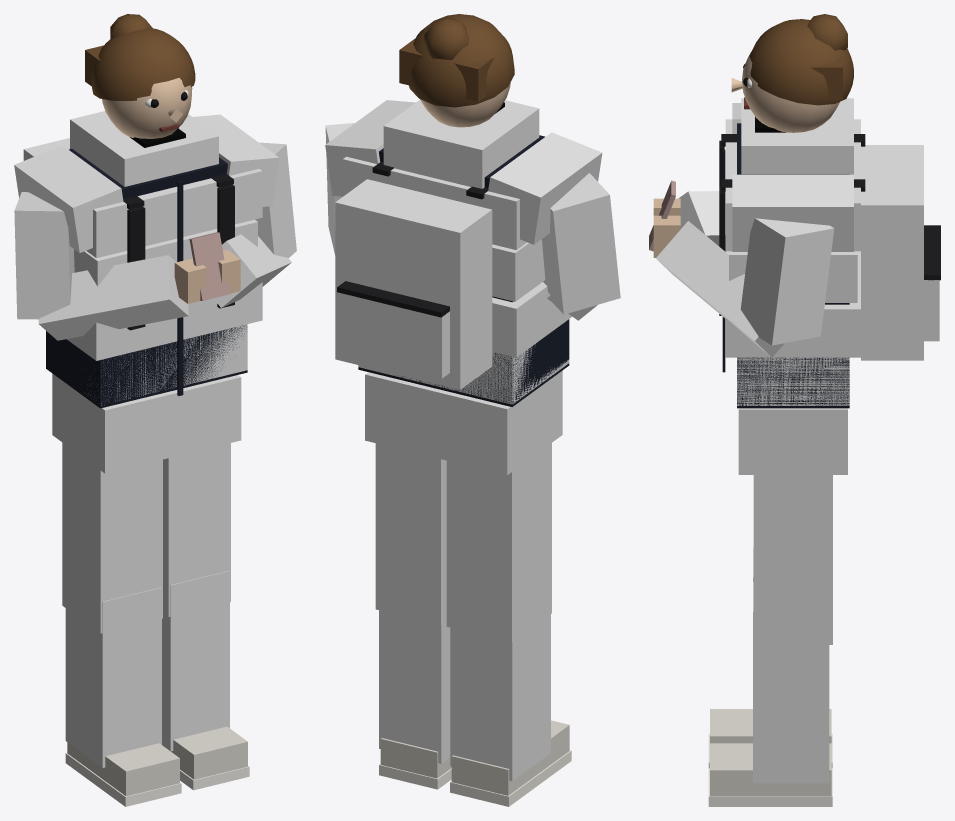
The model's file is NPC_texter.fbx.
3 renders of one model, left to right at view 1: azimuth 30°, elevation 25°; view 2: azimuth 150°, elevation 25°; view 3: azimuth 270°, elevation 25°, orthographic. The views are drawn at different scales.
Visible parts, largest first — view 1: Body_Cloth_9aa6b4, Body_Cloth_283148, Body_Mat_151a27, Head_Hair.016, Body_Mat_dfdcd3, Head_Skin.016, Body_Mat_18171a, Body_Mat_f1efe8.002, Body_Skin.016, Prop_Phone_PhoneBodyRose; view 2: Body_Cloth_9aa6b4, Body_Cloth_283148, Body_Cloth_3a3633, Head_Hair.016, Body_Mat_dfdcd3, Body_Mat_151a27, Body_Mat_f1efe8.002, Body_Mat_18171a, Head_Skin.016; view 3: Body_Cloth_283148, Body_Cloth_9aa6b4, Body_Cloth_3a3633, Head_Hair.016, Body_Mat_151a27, Body_Mat_dfdcd3, Head_Skin.016, Body_Mat_18171a, Body_Mat_f1efe8.002, Body_Skin.016.
Boxes of the visible parts, x1,y1,x2,y2 form: Body_Cloth_9aa6b4: (52, 373, 241, 767); Body_Cloth_283148: (14, 111, 296, 405); Body_Mat_151a27: (46, 149, 247, 408); Head_Hair.016: (85, 14, 195, 100); Body_Mat_dfdcd3: (67, 726, 247, 796); Head_Skin.016: (102, 77, 192, 138); Body_Mat_18171a: (123, 174, 234, 330); Body_Mat_f1efe8.002: (65, 753, 249, 806); Body_Skin.016: (174, 250, 240, 303); Prop_Phone_PhoneBodyRose: (189, 232, 230, 300); Body_Cloth_9aa6b4: (365, 370, 562, 780); Body_Cloth_283148: (325, 99, 620, 404); Body_Cloth_3a3633: (335, 179, 492, 389); Head_Hair.016: (399, 14, 514, 107); Body_Mat_dfdcd3: (380, 720, 569, 795); Body_Mat_151a27: (358, 135, 569, 406); Body_Mat_f1efe8.002: (379, 750, 571, 806); Body_Mat_18171a: (337, 162, 488, 317); Head_Skin.016: (421, 82, 510, 127); Body_Cloth_283148: (656, 98, 860, 405); Body_Cloth_9aa6b4: (738, 408, 847, 783); Body_Cloth_3a3633: (861, 145, 939, 360); Head_Hair.016: (749, 14, 853, 105); Body_Mat_151a27: (722, 123, 849, 408); Body_Mat_dfdcd3: (710, 709, 831, 796); Head_Skin.016: (731, 52, 839, 132); Body_Mat_18171a: (719, 134, 940, 315); Body_Mat_f1efe8.002: (708, 734, 832, 806); Body_Skin.016: (653, 198, 680, 257).
Size of the model in its own units: 0.7405 by 1.86 by 0.6475.
